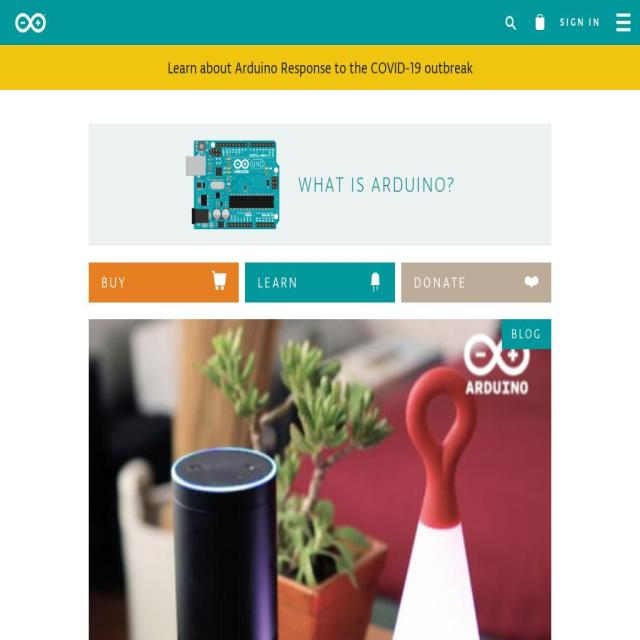button: (89, 318, 551, 640), (0, 46, 640, 92), (0, 92, 640, 138), (0, 138, 640, 184), (0, 184, 640, 230), (0, 230, 640, 276), (0, 276, 640, 322), (0, 322, 640, 368), (0, 45, 640, 90), (89, 262, 239, 302), (245, 262, 395, 302), (401, 262, 551, 302), (554, 0, 606, 45), (606, 0, 640, 45), (526, 0, 554, 45)
heading: (297, 171, 455, 197)
image: (89, 318, 551, 640), (185, 140, 279, 229), (0, 0, 74, 45), (612, 8, 634, 38), (531, 12, 549, 35), (368, 272, 383, 292), (524, 272, 539, 292), (212, 270, 226, 290)
text: (414, 272, 467, 292), (258, 272, 298, 292), (290, 154, 350, 167), (560, 16, 601, 28), (102, 272, 126, 292), (310, 200, 330, 212)
